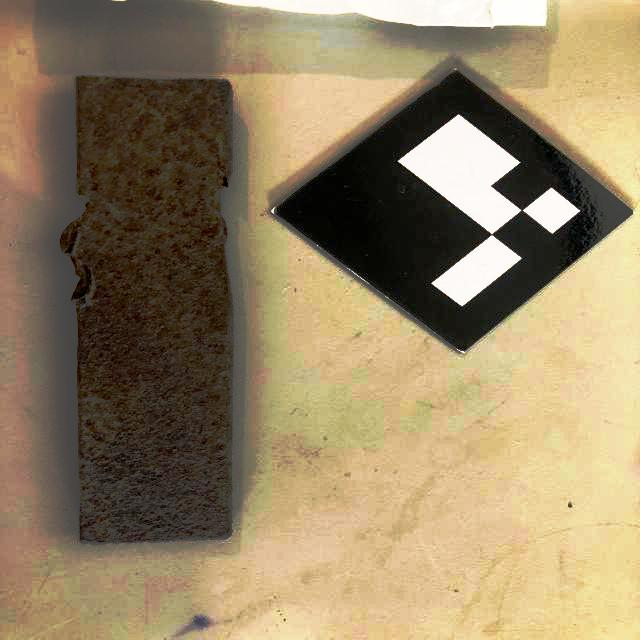Corrosion: (59, 75, 234, 545)
